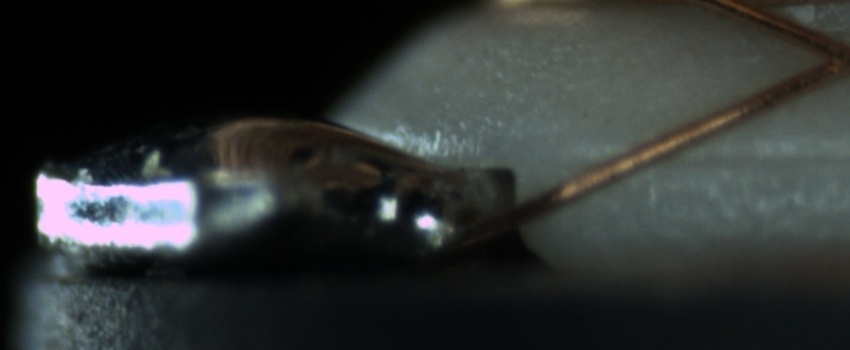CL: (796, 27, 849, 86)
DL: (615, 123, 848, 190)
